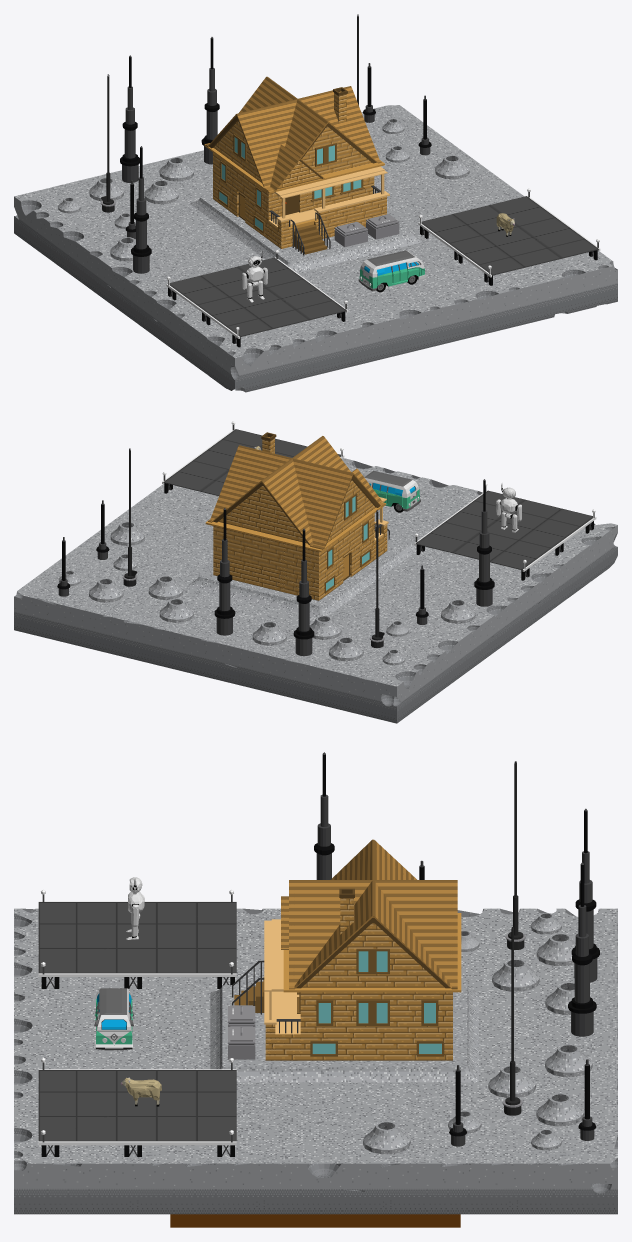
3 renders of one model, top to bottom at view 1: azimuth 30°, elevation 25°; view 2: azimuth 150°, elevation 25°; view 3: azimuth 270°, elevation 25°, orthographic. The views are drawn at different scales.
Parts seen in each view (by area): view 1: Cube.027, Cube.508, Cube.026, Cube.025, Cube.028, VEHICLES_VAN, Cylinder.020, Cylinder.021, Cylinder.017, OBJRANDOM_PLATZEEBOT, Cube.029, Cube.030 (+5 smaller); view 2: Cube.027, Cube.508, Cube.025, Cube.028, Cube.026, VEHICLES_VAN, Cylinder.020, Cylinder.017, Cylinder.021, OBJRANDOM_PLATZEEBOT, Cylinder.030, Cylinder.025 (+8 smaller); view 3: Cube.027, Cube.508, Cube.025, Cube.026, Cube.028, UNDERGROUND_ART_PIECE_VAN_GOGH, Cylinder.017, VEHICLES_VAN, Cylinder.020, Cylinder.021, Cylinder.033, Cylinder.031 (+12 smaller).
Boxes of the visible parts, <box> form: Cube.027: <box>14,105,617,392</box>; Cube.508: <box>204,76,389,255</box>; Cube.026: <box>418,188,600,285</box>; Cube.025: <box>166,250,348,347</box>; Cube.028: <box>190,194,422,272</box>; VEHICLES_VAN: <box>358,250,426,292</box>; Cylinder.020: <box>120,55,139,182</box>; Cylinder.021: <box>131,146,151,273</box>; Cylinder.017: <box>201,37,219,164</box>; OBJRANDOM_PLATZEEBOT: <box>242,251,267,302</box>; Cube.029: <box>334,221,367,247</box>; Cube.030: <box>366,214,399,239</box>; Cube.027: <box>14,458,617,723</box>; Cube.508: <box>205,432,389,600</box>; Cube.025: <box>414,483,596,580</box>; Cube.028: <box>188,535,416,617</box>; Cube.026: <box>162,421,344,495</box>; VEHICLES_VAN: <box>364,470,420,512</box>; Cylinder.020: <box>293,528,314,656</box>; Cylinder.017: <box>214,508,235,635</box>; Cylinder.021: <box>474,479,494,606</box>; OBJRANDOM_PLATZEEBOT: <box>496,483,521,532</box>; Cylinder.030: <box>148,575,183,599</box>; Cylinder.025: <box>441,599,475,623</box>; Cube.027: <box>14,908,617,1214</box>; Cube.508: <box>232,839,461,1060</box>; Cube.025: <box>38,889,236,988</box>; Cube.026: <box>38,1058,236,1156</box>; Cube.028: <box>210,985,478,1082</box>; UNDERGROUND_ART_PIECE_VAN_GOGH: <box>170,1214,460,1227</box>; Cylinder.017: <box>568,862,596,1036</box>; VEHICLES_VAN: <box>94,988,133,1050</box>; Cylinder.020: <box>571,808,599,982</box>; Cylinder.021: <box>314,752,334,879</box>; Cylinder.033: <box>363,1121,410,1154</box>; Cylinder.031: <box>536,1093,583,1126</box>.
Size of the model in its own units: 4000 by 1925 by 4000.
37 materials, 6 textured.
